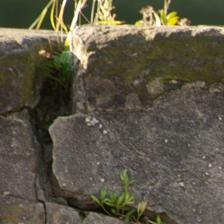Crack: (80, 104, 193, 224), (25, 106, 61, 158), (44, 96, 65, 126), (143, 28, 166, 54)
